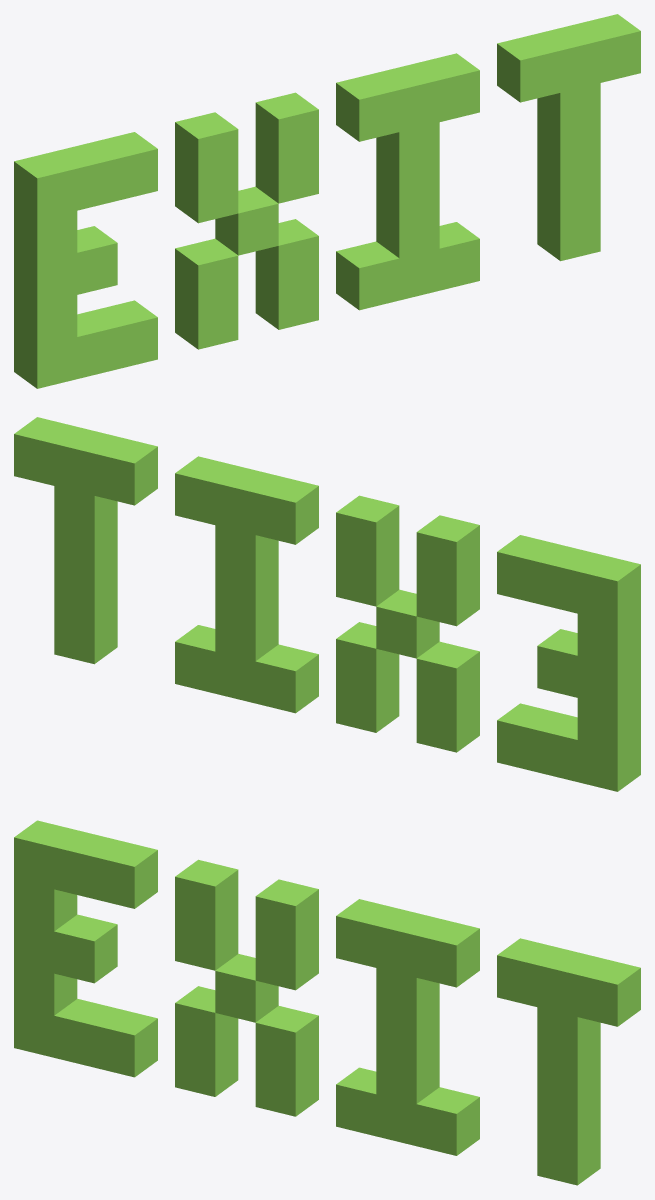
The model's file is QuitButton.obj.
3 views of the same model, one above another, from view 1: azimuth 30°, elevation 25°; view 2: azimuth 150°, elevation 25°; view 3: azimuth 330°, elevation 25° (orthographic).
Parts seen in each view (by area): view 1: QuitButton; view 2: QuitButton; view 3: QuitButton.
Part boxes in pixels (box(x1,y1,x2,y2)): QuitButton: box(14, 14, 640, 388); QuitButton: box(14, 417, 640, 791); QuitButton: box(14, 820, 640, 1185).
Bounding box in the file's own units: 15 × 5 × 1.
1 material, 1 textured.
